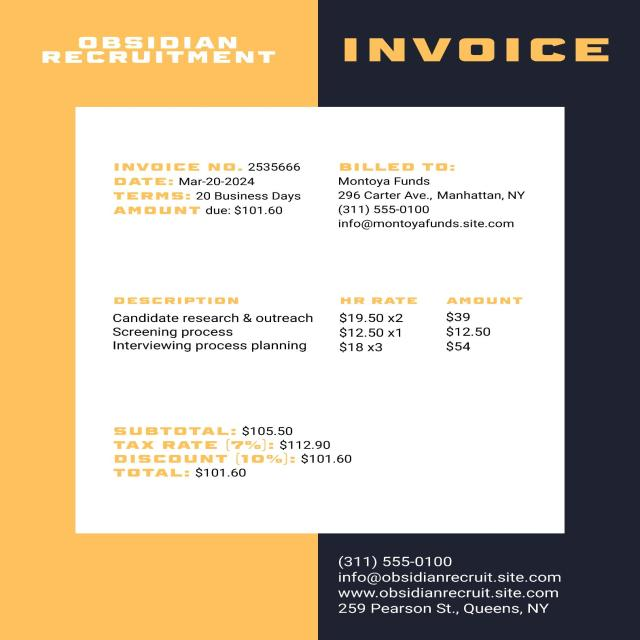paragraph: (335, 160, 541, 237), (99, 422, 354, 484), (334, 554, 570, 618), (106, 157, 312, 220), (338, 28, 616, 70), (35, 35, 283, 68)
table: (99, 290, 538, 360)
